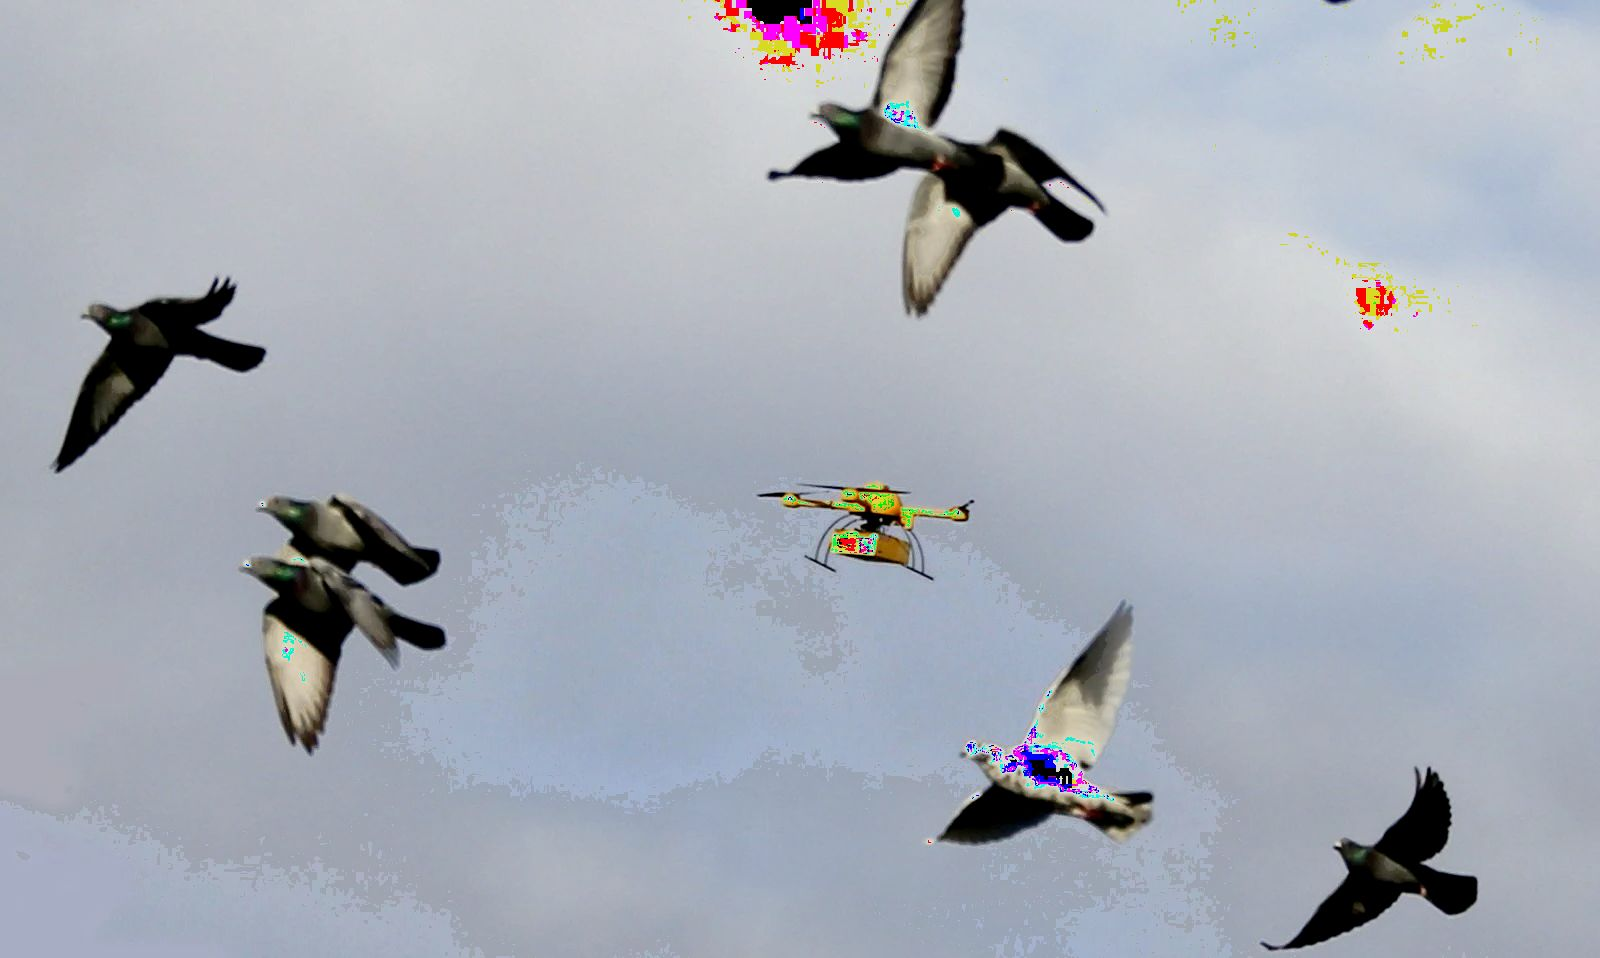Bird: (924, 600, 1166, 872), (224, 541, 450, 760), (54, 270, 270, 484), (899, 116, 1113, 325), (1261, 756, 1483, 950), (764, 5, 973, 192), (249, 477, 449, 591)
Drone: (753, 466, 981, 596)
